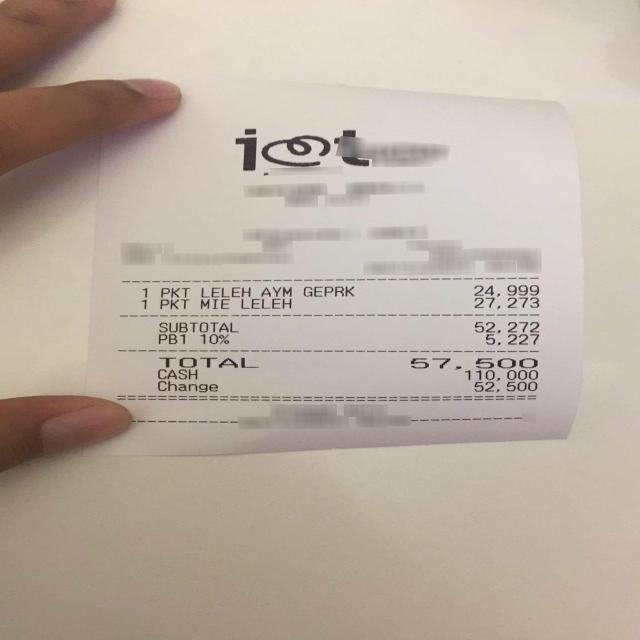kertas: (89, 81, 582, 455)
